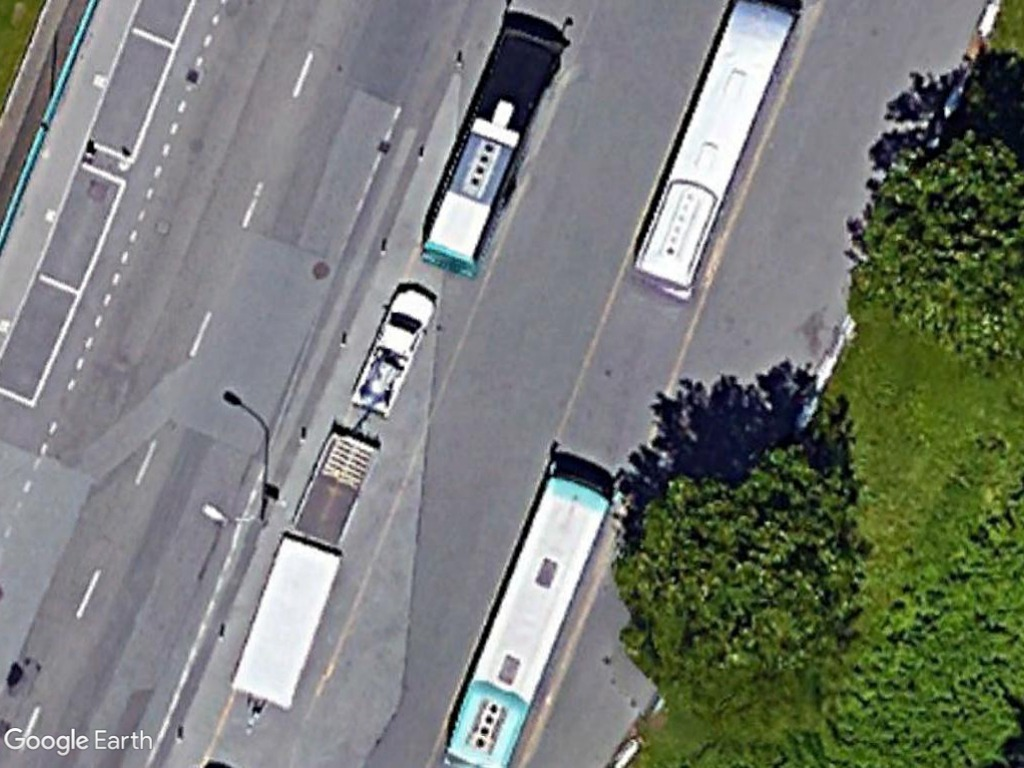bus: (623, 0, 793, 306), (443, 470, 614, 768), (419, 17, 564, 280)
